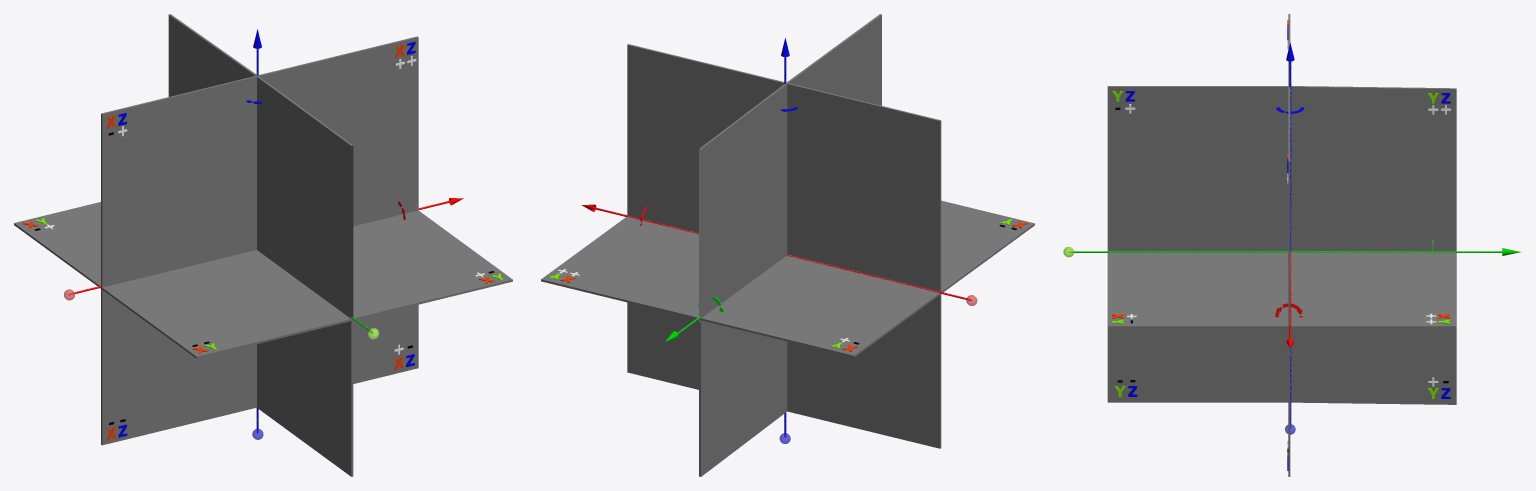
3 views of the same model, side by side, from view 1: azimuth 30°, elevation 25°; view 2: azimuth 150°, elevation 25°; view 3: azimuth 270°, elevation 25° (orthographic). The views are drawn at different scales.
Visible parts, largest first — view 1: SketchUp; view 2: SketchUp (×2); view 3: SketchUp (×3).
Boxes of the visible parts, <box> form: SketchUp: <box>14,14,512,476</box>; SketchUp (×2): <box>541,14,1034,476</box>; SketchUp (×3): <box>1068,14,1502,476</box>.
Bounding box in the file's own units: 497 × 518 × 489.
